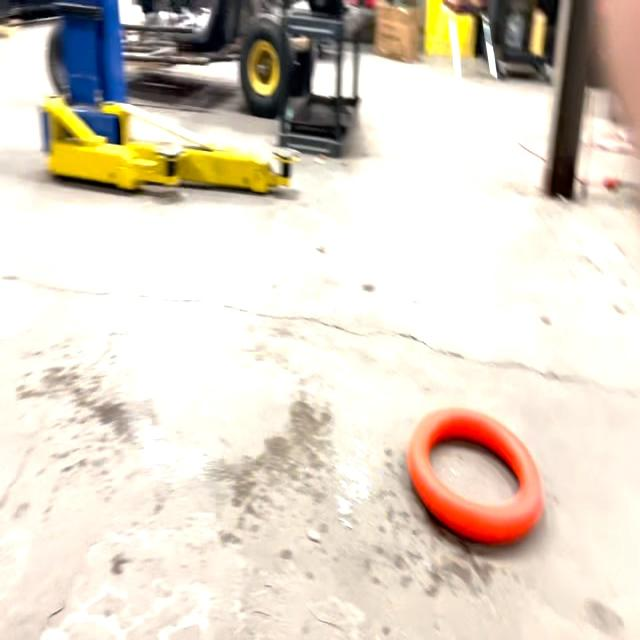note: (405, 399, 547, 556)
